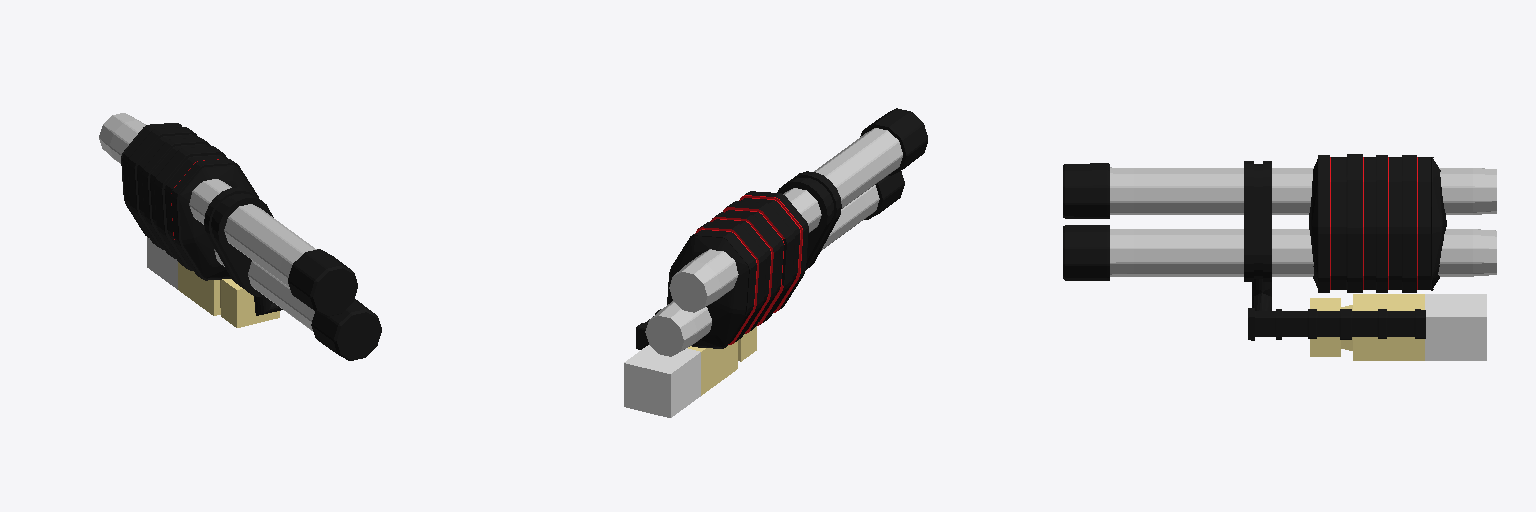
The picture shows the model from 3 angles: view 1: azimuth 30°, elevation 25°; view 2: azimuth 150°, elevation 25°; view 3: azimuth 270°, elevation 25°; orthographic projection.
Parts seen in each view (by area): view 1: user defined4, cube5; view 2: user defined4, cube5; view 3: user defined4, cube5.
Boxes of the visible parts, x1=… form: user defined4: x1=99, y1=113, x2=381, y2=360; cube5: x1=147, y1=237, x2=279, y2=327; user defined4: x1=636, y1=108, x2=927, y2=356; cube5: x1=624, y1=326, x2=756, y2=417; user defined4: x1=1063, y1=154, x2=1496, y2=340; cube5: x1=1310, y1=294, x2=1486, y2=360.
Size of the model in its own units: 20.77 by 27.9 by 64.36.
5 materials, 4 textured.